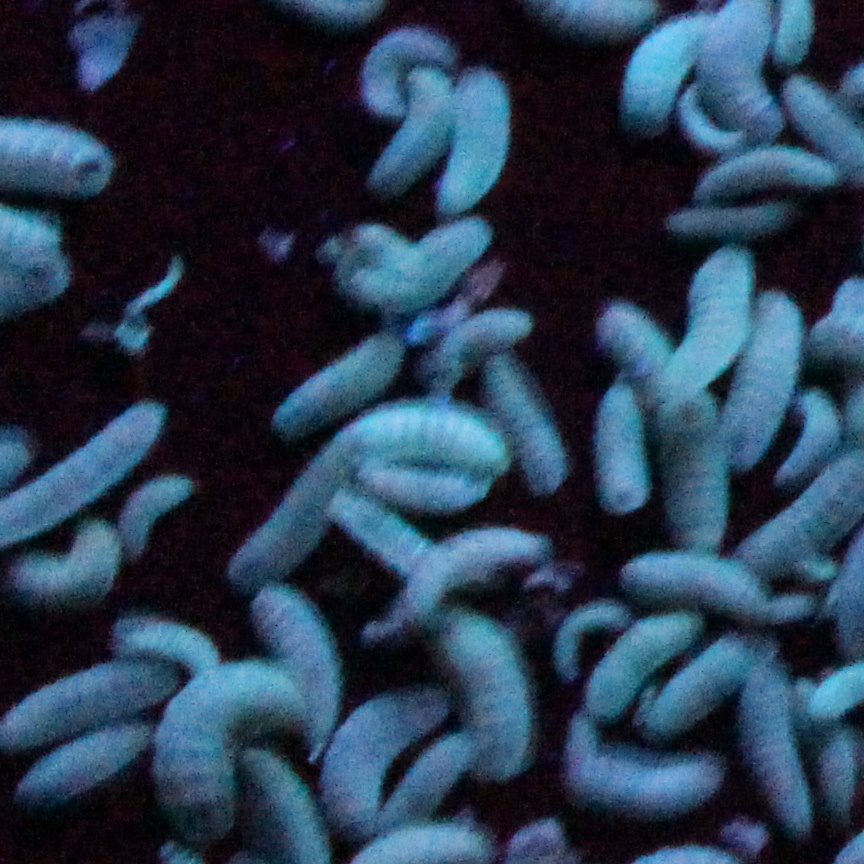larve: (172, 653, 275, 828), (311, 215, 502, 304), (558, 732, 725, 828), (436, 617, 547, 747), (725, 660, 808, 828), (25, 700, 158, 803), (4, 657, 165, 742), (1, 115, 131, 199), (659, 396, 725, 552), (449, 70, 515, 218), (1, 547, 121, 622), (620, 552, 773, 610), (346, 414, 502, 468), (1, 212, 82, 314), (123, 468, 207, 565), (287, 591, 340, 742), (250, 469, 331, 566), (596, 380, 652, 520), (750, 293, 798, 444), (691, 255, 747, 383), (292, 337, 388, 411), (25, 454, 123, 520), (513, 370, 564, 486), (684, 152, 841, 186), (405, 62, 443, 197), (600, 297, 667, 373), (654, 201, 803, 234), (342, 488, 399, 574), (637, 28, 682, 134), (430, 311, 524, 361), (130, 609, 216, 662), (797, 93, 861, 152), (359, 30, 398, 122), (398, 472, 494, 509), (804, 393, 831, 470)
